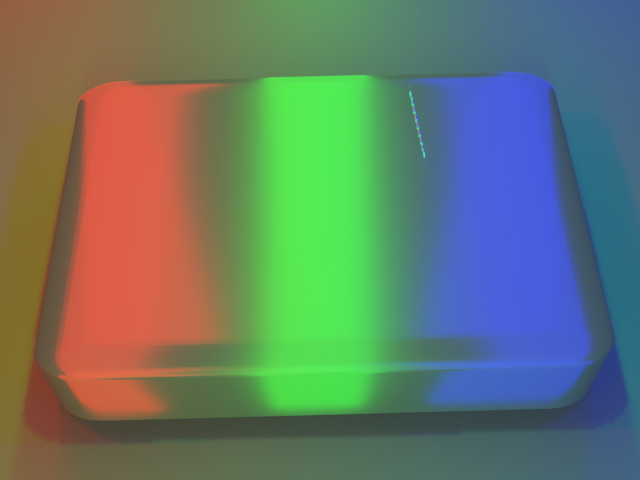scratch: (236, 52, 581, 219)
